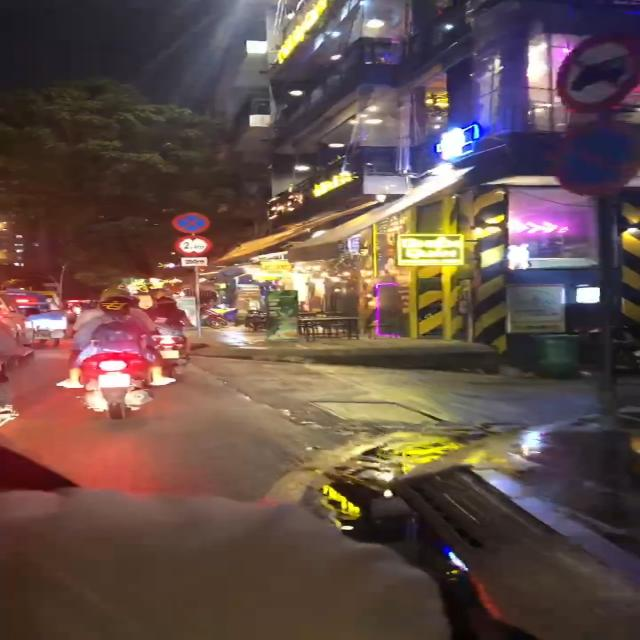Bien bao cam dung xe va do xe: (168, 208, 211, 234)
Bien bao han che chieu cao: (170, 233, 212, 257)
